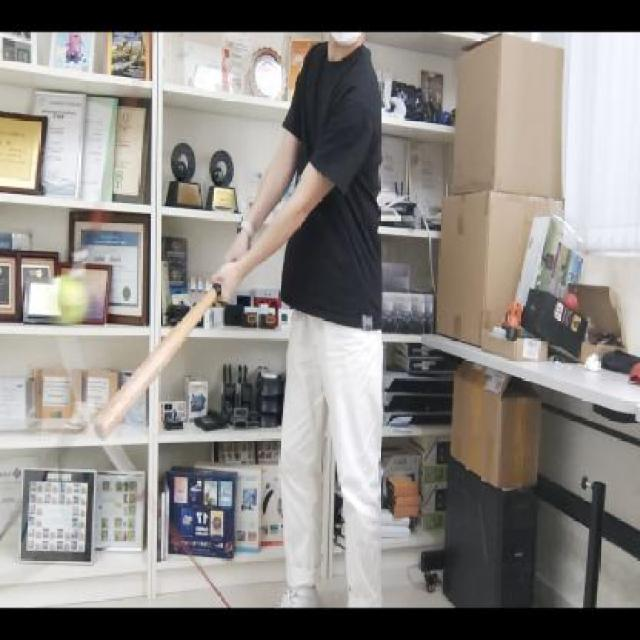baseball: (53, 274, 89, 324)
